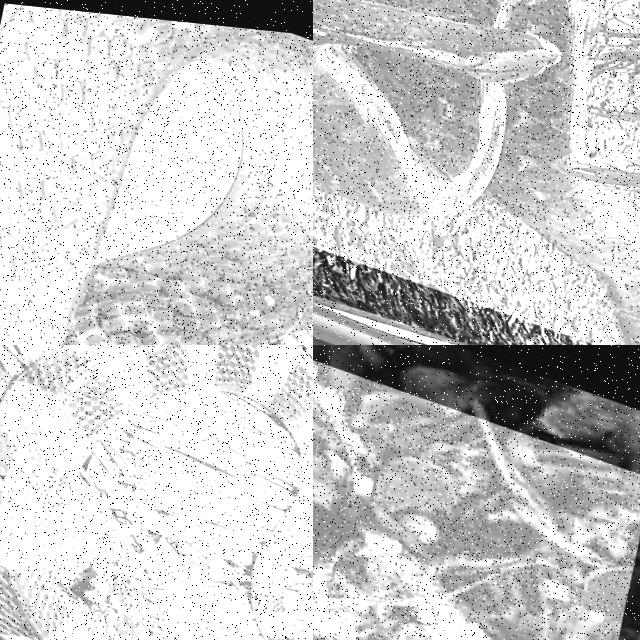Bungarus candidus: (313, 363, 373, 496)
Bungarus fasciatus: (0, 345, 312, 639)
Malayopython reticulatus: (313, 0, 639, 344)
Naja kaouthia: (0, 6, 312, 344)
snake: (313, 0, 639, 344), (0, 6, 312, 344), (0, 345, 312, 639), (313, 363, 373, 496)
